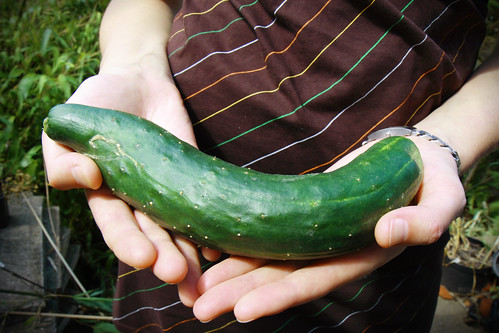cucumber: (45, 103, 423, 260)
